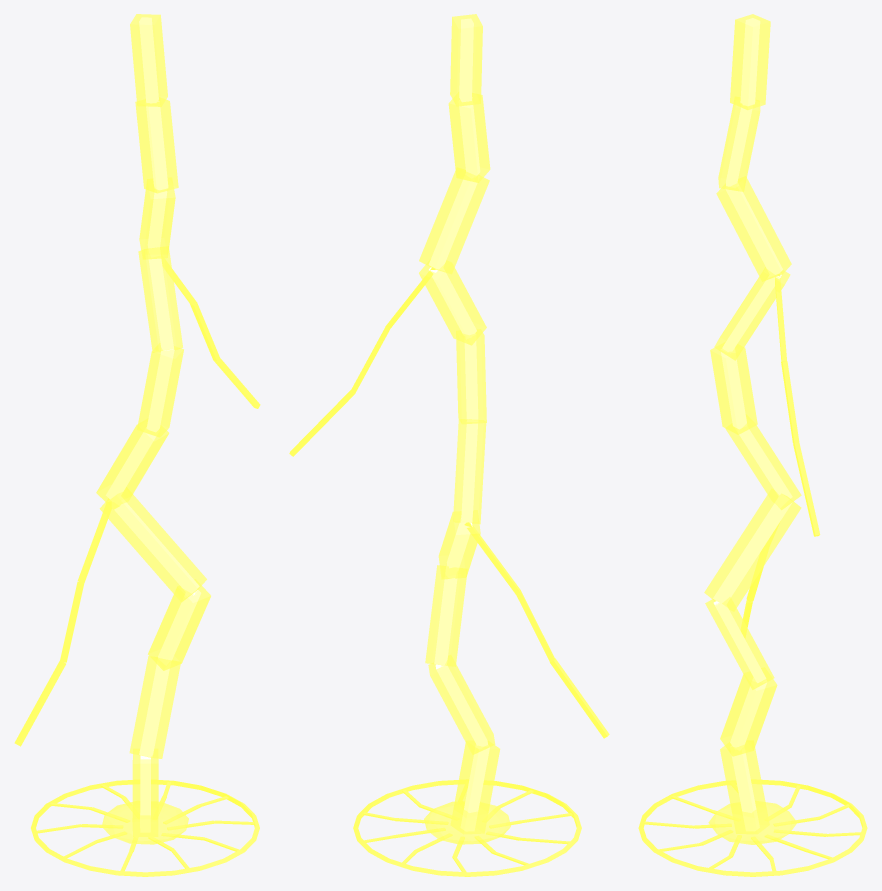
File: fx_thunder_strike_v01.glb
3 renders of one model, left to right at view 1: azimuth 30°, elevation 25°; view 2: azimuth 150°, elevation 25°; view 3: azimuth 270°, elevation 25°, orthographic.
Parts seen in each view (by area): view 1: thunder_strike; view 2: thunder_strike; view 3: thunder_strike.
Part boxes in pixels (x1,y1,x2,y2): thunder_strike: [14, 14, 260, 876]; thunder_strike: [289, 14, 609, 876]; thunder_strike: [638, 14, 867, 876].
Size of the model in its own units: 4.38 by 12.09 by 3.08.
